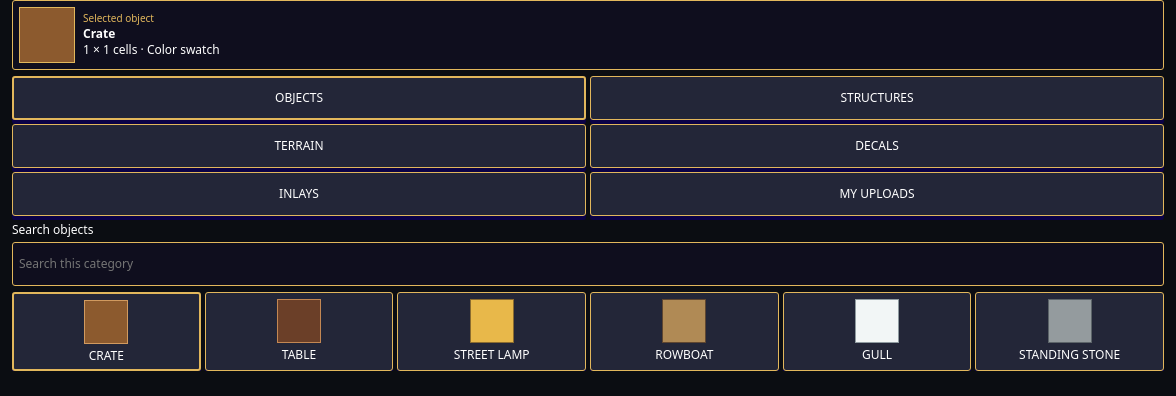
Test: MapEditAssetPicker › offers an upload control on the My uploads tab
The width and height of the screenshot is (1176, 396).
Click the button "My uploads" at (877, 194), box [590, 172, 1164, 216]
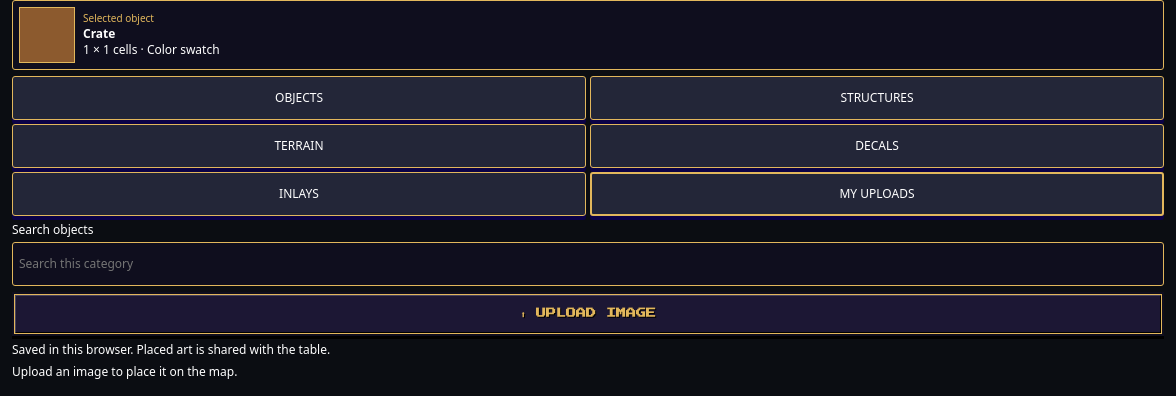
Expected: the button "⬆ Upload image" is shown, [12, 292, 1164, 336]
